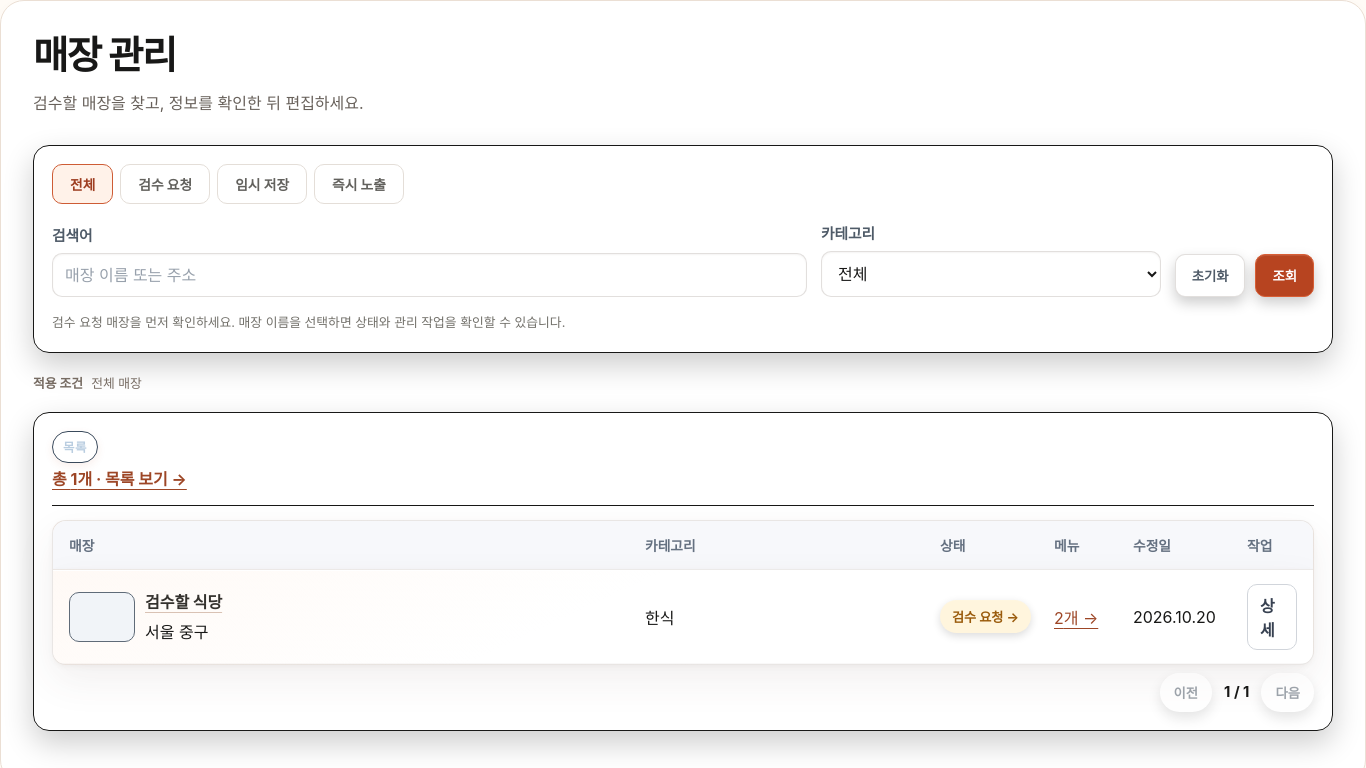
Test case: keeps the newest quick filter results when earlier requests finish late
Expected: the button with aria-label "검수할 식당 관리 작업 열기" is shown, [145,590,222,614]
Click the button "검수 요청". click: (165, 184)
box: [120,164,210,204]
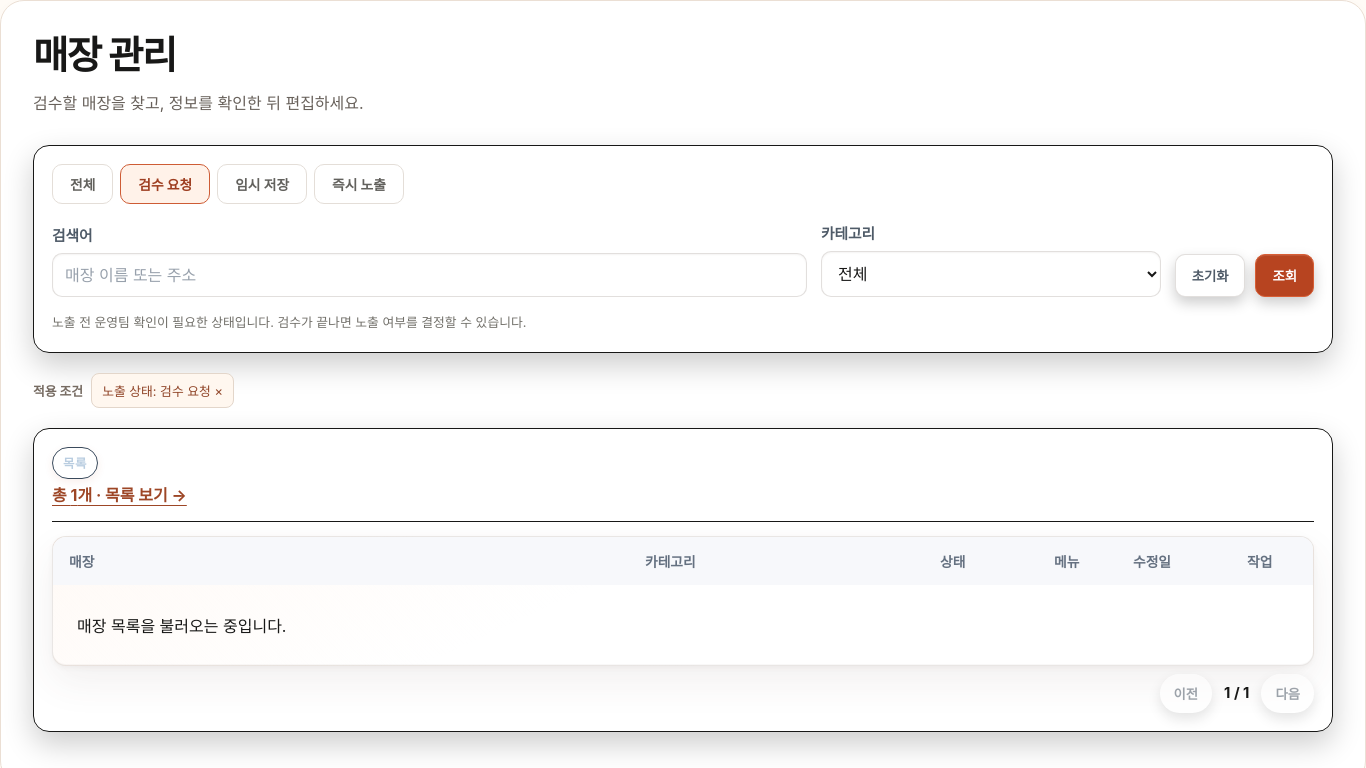
Click the button "즉시 노출". click: (359, 184)
box: [314,164,404,204]
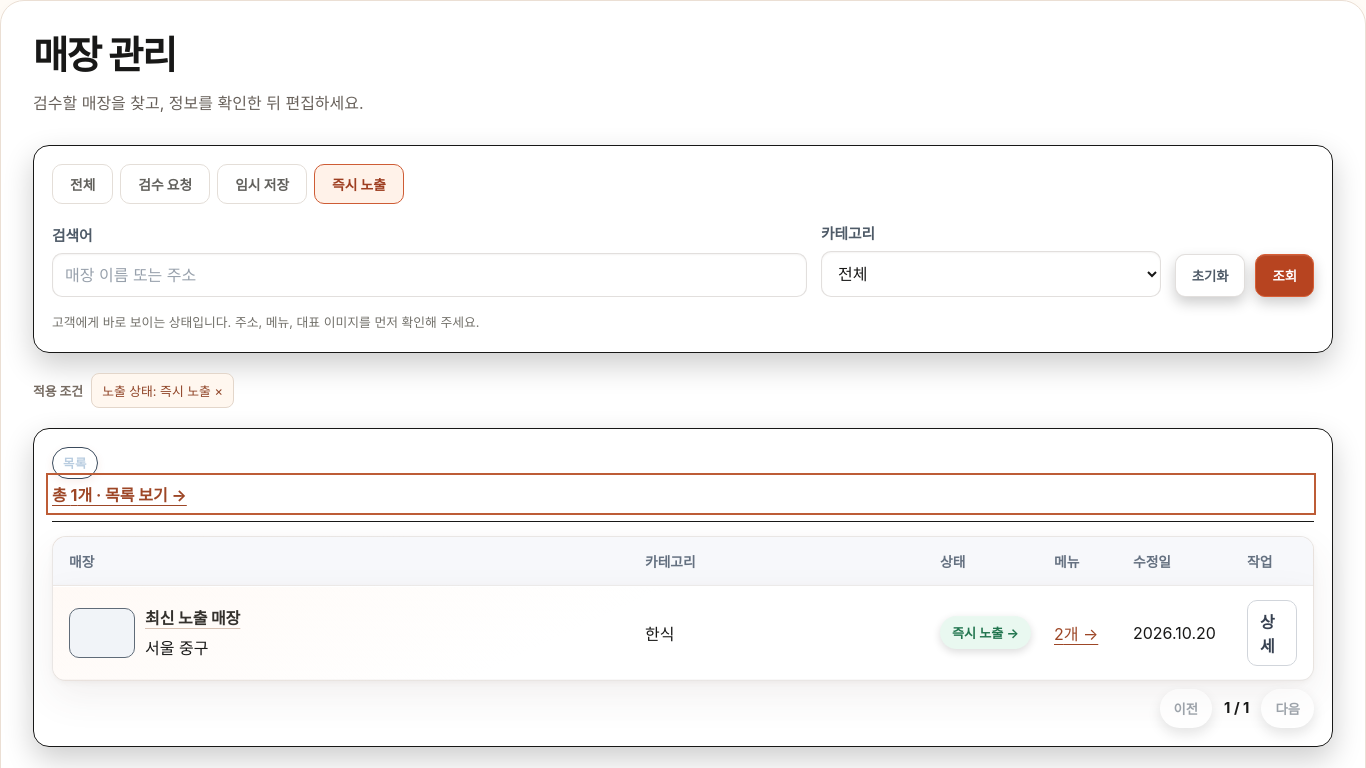
Expected: the button with aria-label "최신 노출 매장 관리 작업 열기" is shown, [145,606,240,630]
